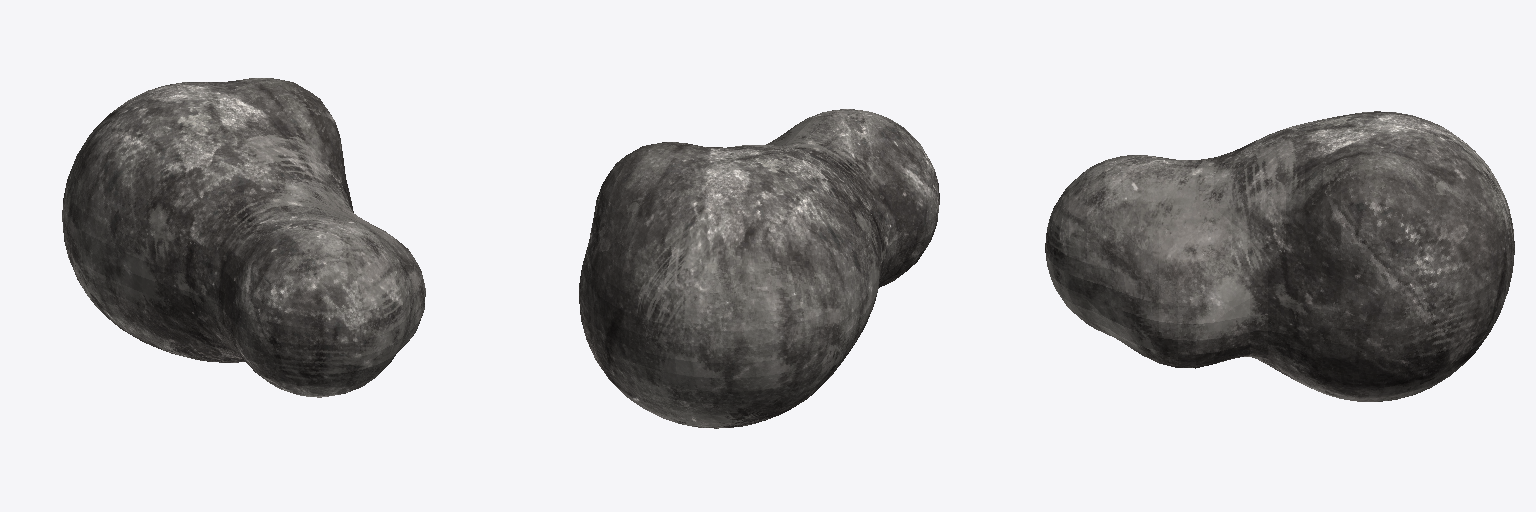
3 renders of one model, left to right at view 1: azimuth 30°, elevation 25°; view 2: azimuth 150°, elevation 25°; view 3: azimuth 270°, elevation 25°, orthographic.
Parts seen in each view (by area): view 1: Mball.000_Mesh.004_meshId0_name.003; view 2: Mball.000_Mesh.004_meshId0_name.003; view 3: Mball.000_Mesh.004_meshId0_name.003.
Boxes of the visible parts, box(x1,y1,x2,y2) form: Mball.000_Mesh.004_meshId0_name.003: box(62, 78, 425, 397); Mball.000_Mesh.004_meshId0_name.003: box(579, 109, 939, 428); Mball.000_Mesh.004_meshId0_name.003: box(1045, 111, 1514, 401).
Bounding box in the file's own units: 0.7227 × 0.6999 × 1.17.
1 materials, 1 textured.